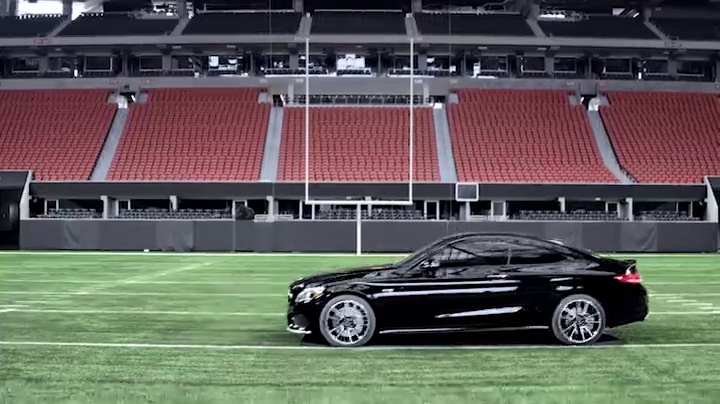amg: (283, 228, 652, 345)
